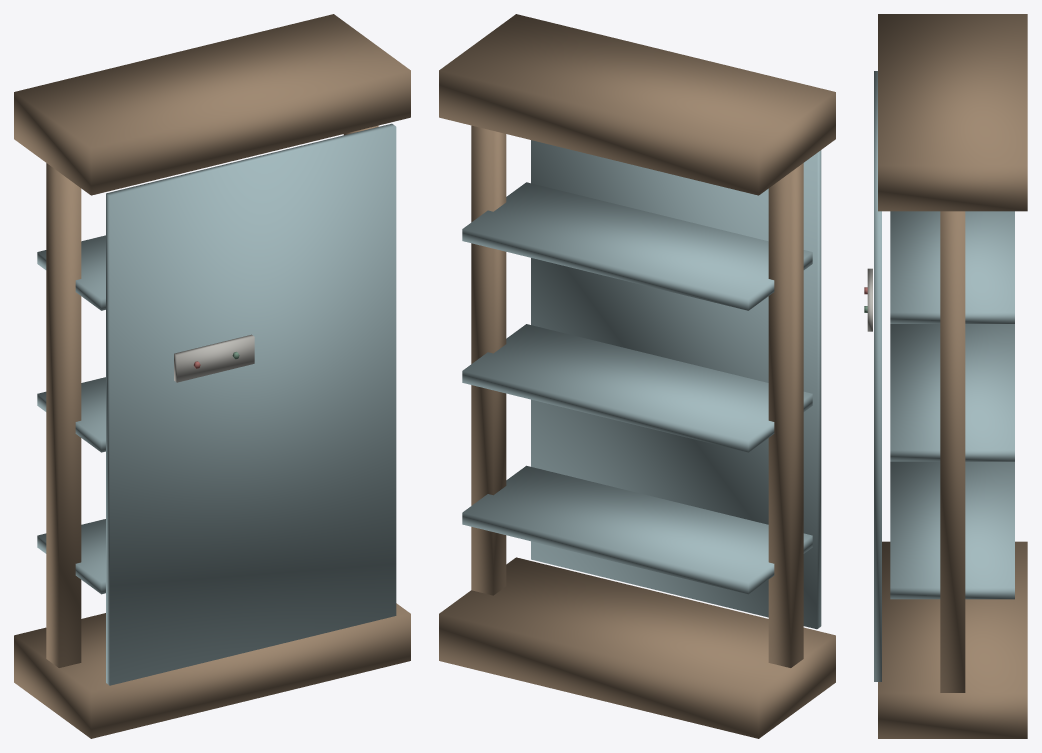
File: glass_display_cabinet__tall.glb
The picture shows the model from 3 angles, left to right: view 1: azimuth 30°, elevation 25°; view 2: azimuth 150°, elevation 25°; view 3: azimuth 270°, elevation 25°; orthographic projection. The views are drawn at different scales.
Visible parts, largest first — view 1: world; view 2: world; view 3: world.
Boxes of the visible parts, box(x1,y1,x2,y2) form: world: box(14, 14, 410, 738); world: box(439, 14, 835, 738); world: box(864, 14, 1027, 738).
Size of the model in its own units: 1.15 by 2.03 by 0.5235.
